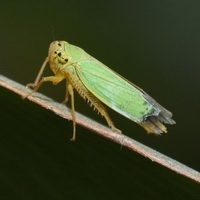insect: (24, 41, 175, 140)
